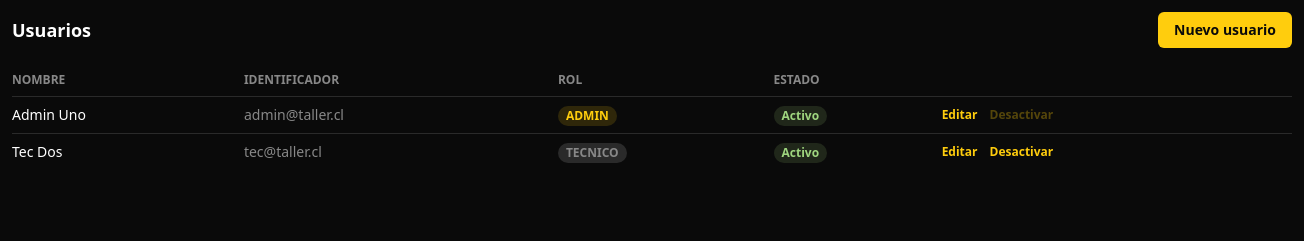
Scenario: UsersPage › un error del backend al desactivar se muestra sin romper la página
This screenshot has width=1304, height=241.
expect the text "Tec Dos" is shown: met, box [12,134,244,170]
What coordinates should you click on to do the following:
click the button "Desactivar" in the row of "Tec Dos"
I would click on:
 (1021, 152)
Its box is [990,144,1053,160].
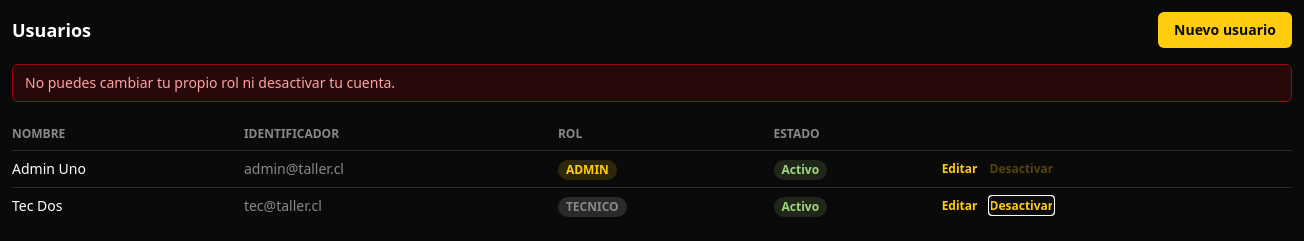
expect the text "Tec Dos" is shown: met, box [12,188,244,224]
expect the text "No puedes cambiar tu propio rol ni desactivar tu cuenta." is shown: met, box [12,64,1292,102]
